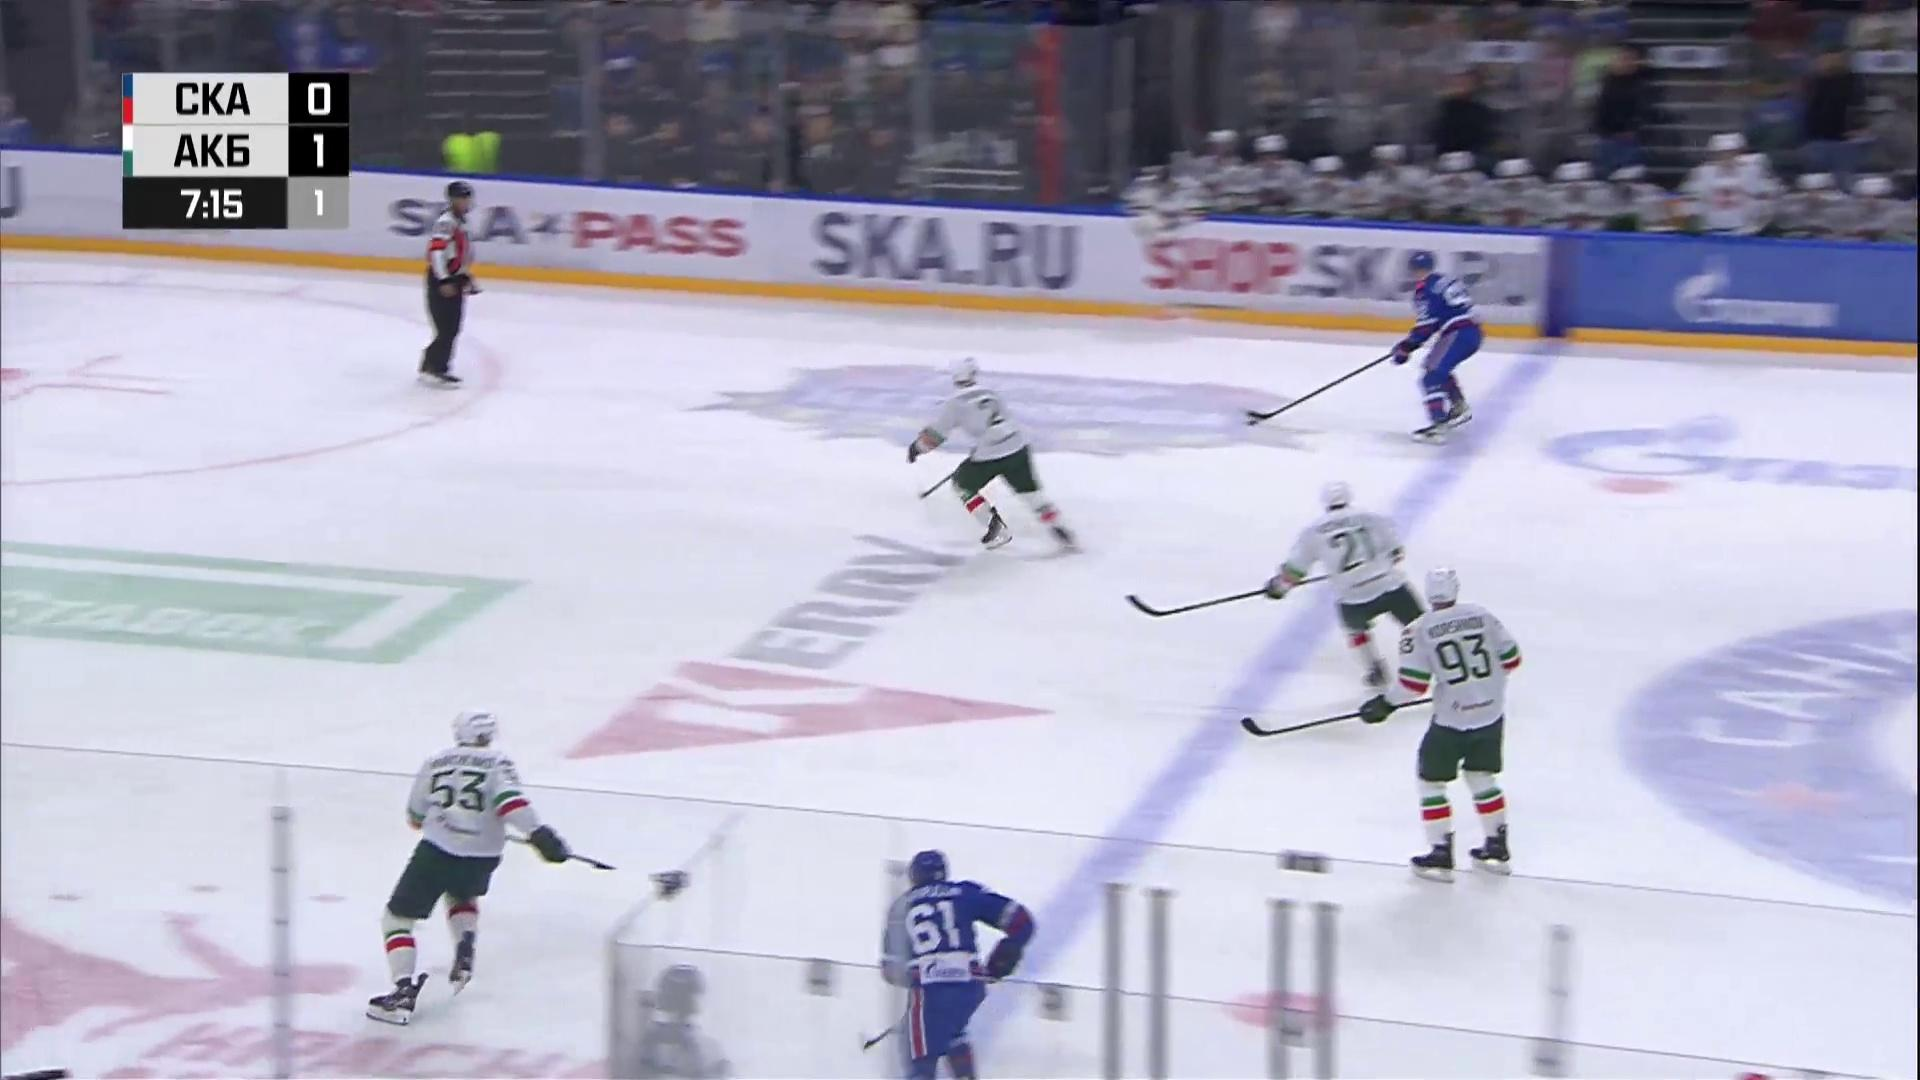ball: (1245, 421, 1259, 426)
